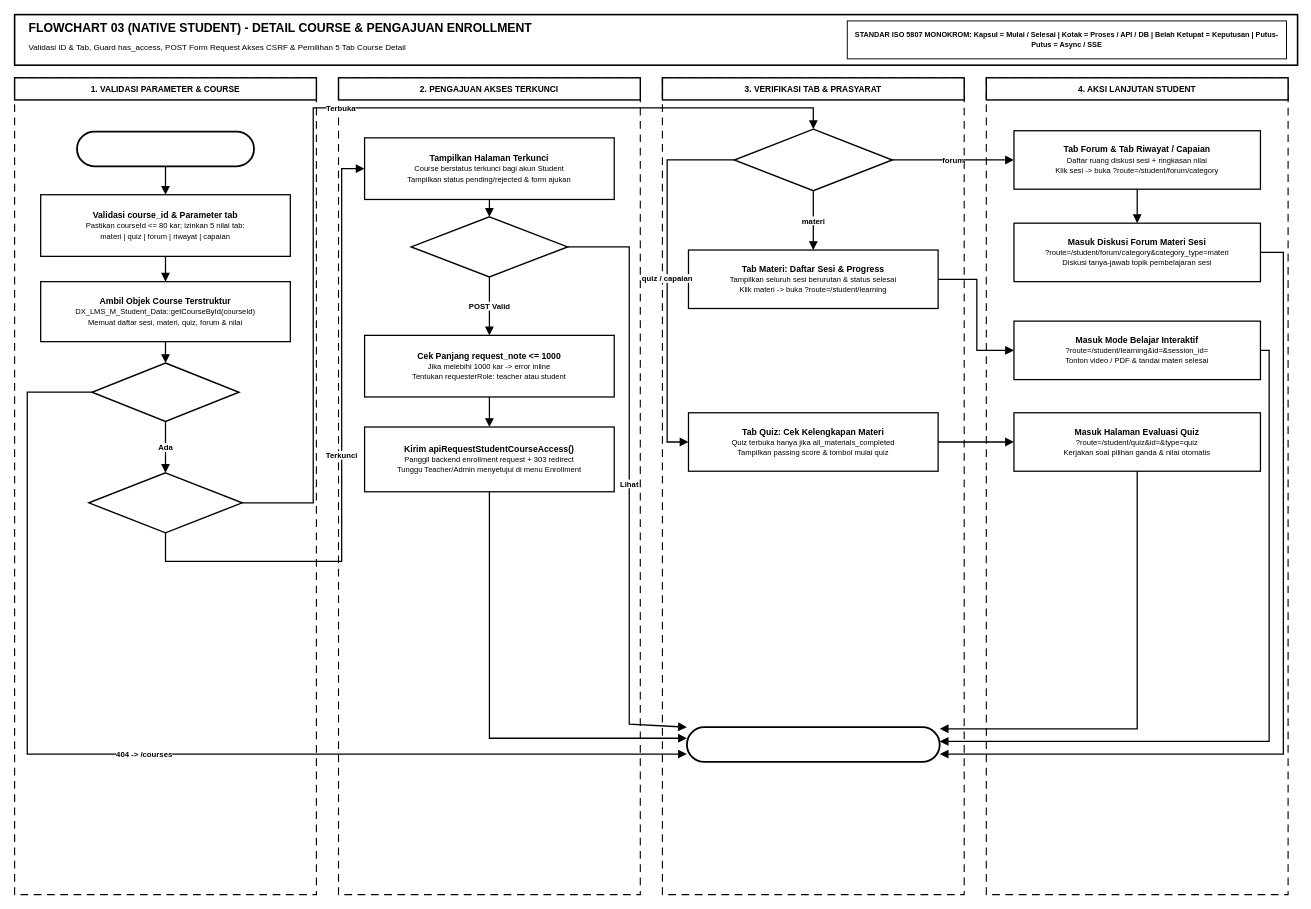
Image size: 1311x909. Some labels were removed from this diagram. Each missing label, with the box of its shape:
BUKA /student/course/detail: (76, 130, 255, 167)
Course Ada di Katalog?: (91, 362, 239, 422)
HALAMAN DETAIL COURSE SIAP: (686, 726, 940, 763)
Pilih Tab Aktif di Detail Course?: (733, 128, 893, 191)
POST Form & verifyCsrf() Valid?: (410, 216, 568, 277)
Student Punya has_access = true?: (88, 472, 242, 533)
